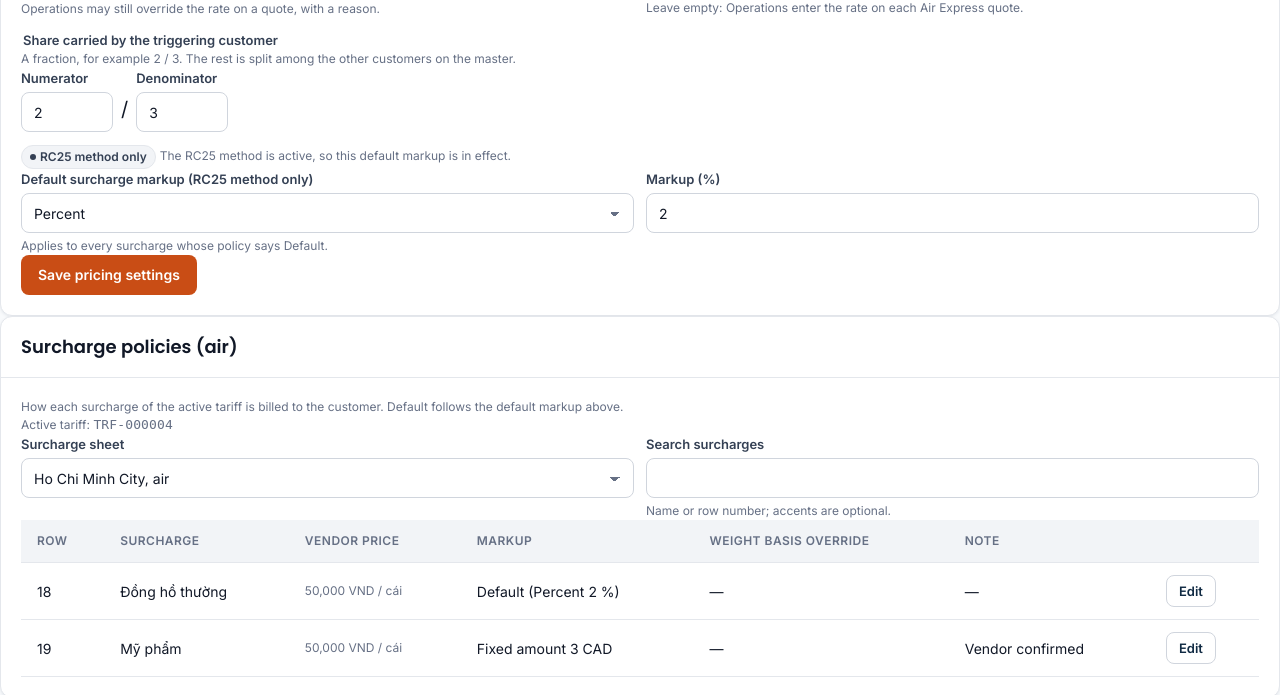
Test case: Settings › Pricing › edits a rule policy: kind, value, scope override and note
(page scrolled)
expect the element named "Surcharges and their policies" is shown: met, box [21,520,1259,677]
Click the button with aria-label "Edit policy: 18. Đồng hồ thường": [1191, 591] box [1166,575,1216,607]
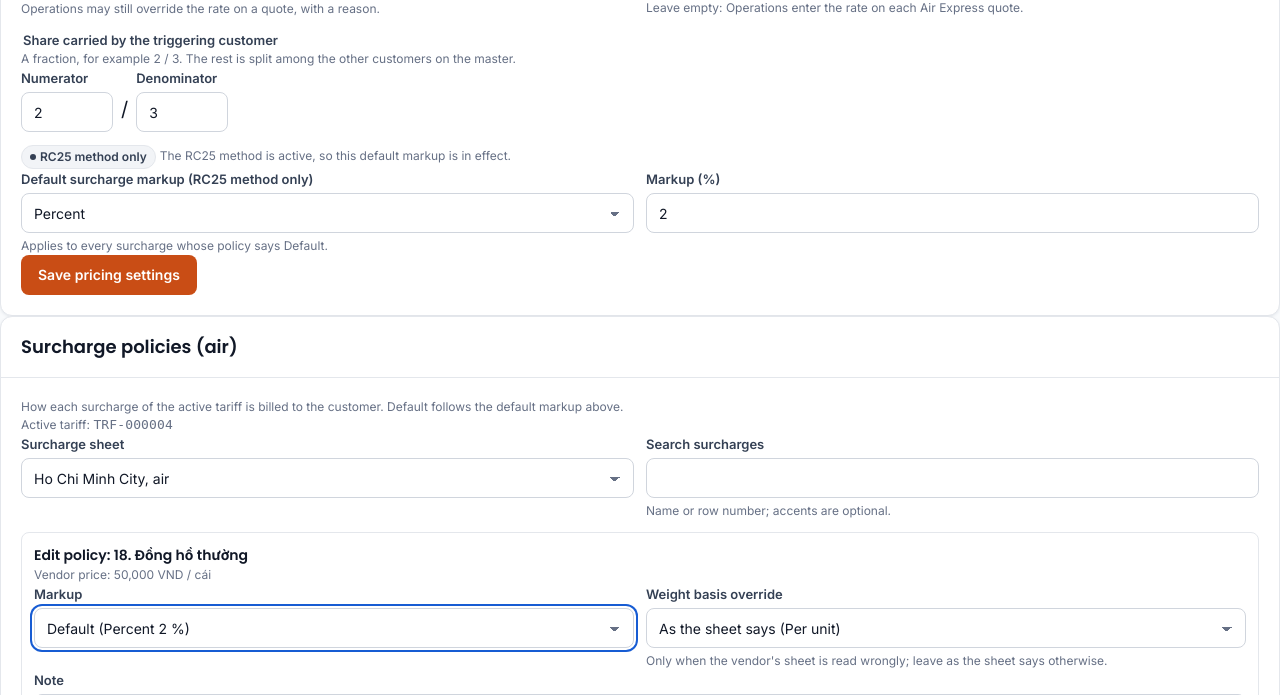
Select "Percent" in the dropdown labelled "Markup": [334, 628] box [34,608,634,648]
(page scrolled)
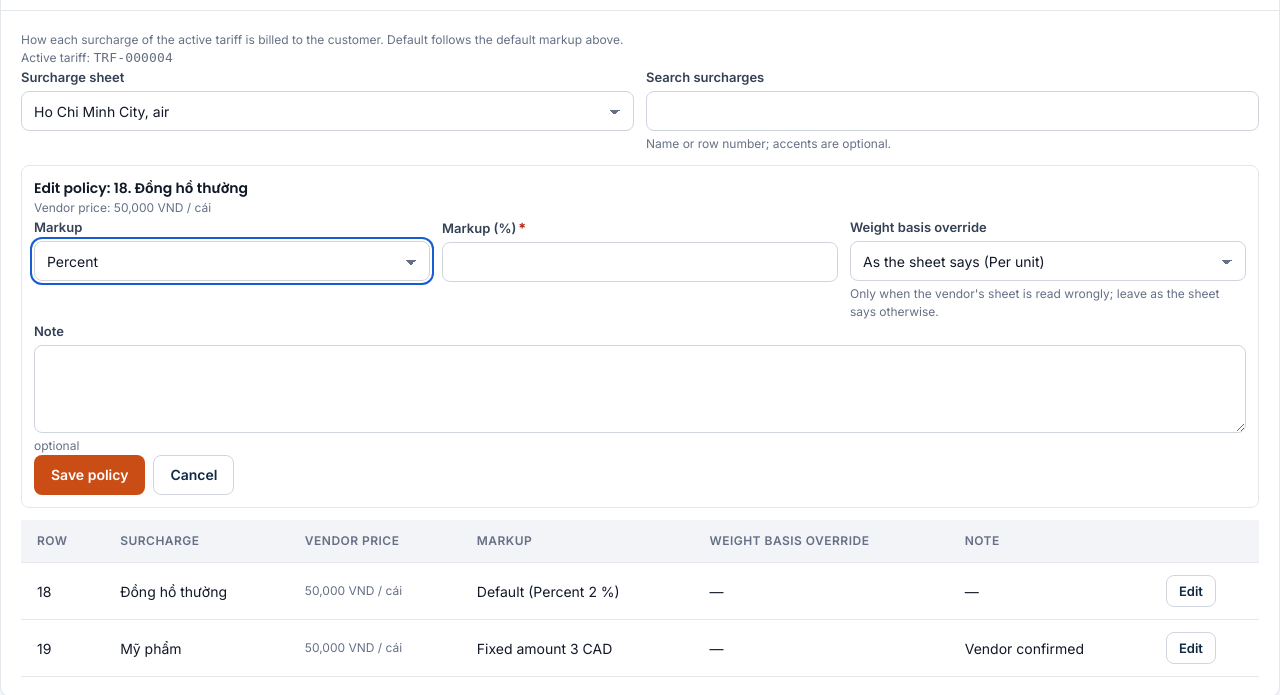
Click the button "Save policy": [90, 475] box [34,455,145,495]
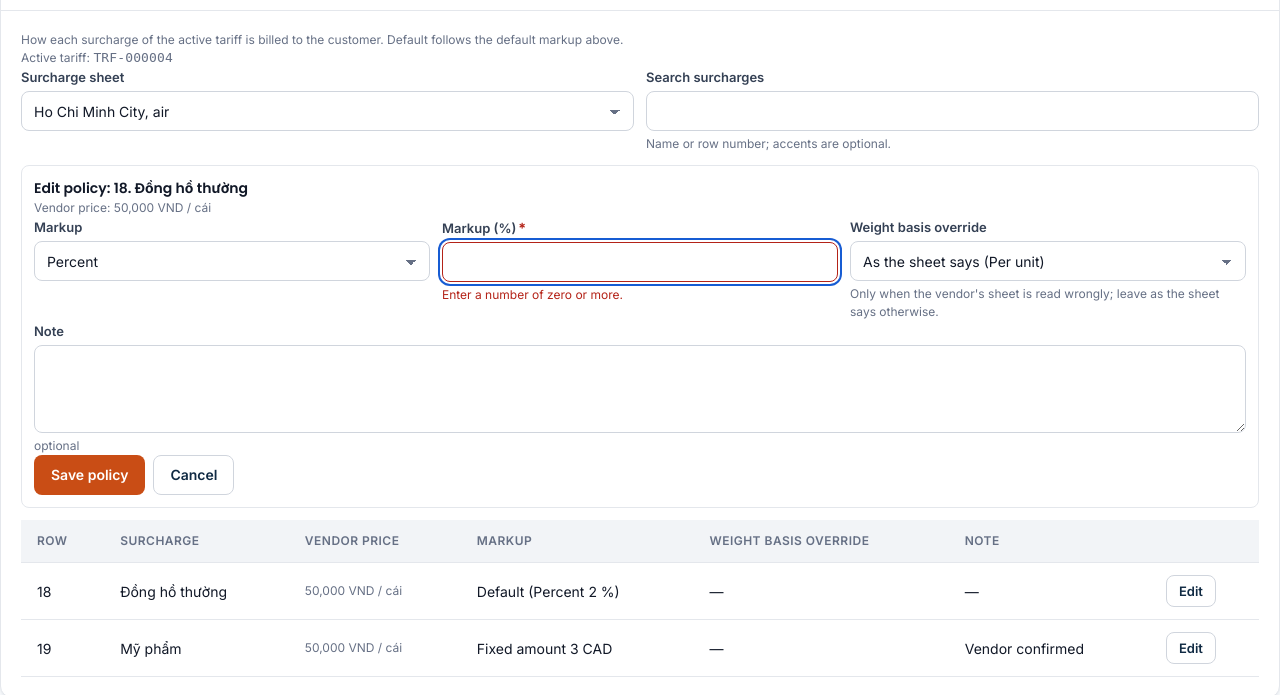
expect the text "Enter a number of zero or more." is shown: met, box [442,287,623,302]
In the field labelled "Markup (%)": [640, 262] box [442,242,838,282], type "5"
Select "The whole carton" in the dropdown labelled "Weight basis override": [1048, 261] box [850,241,1246,281]
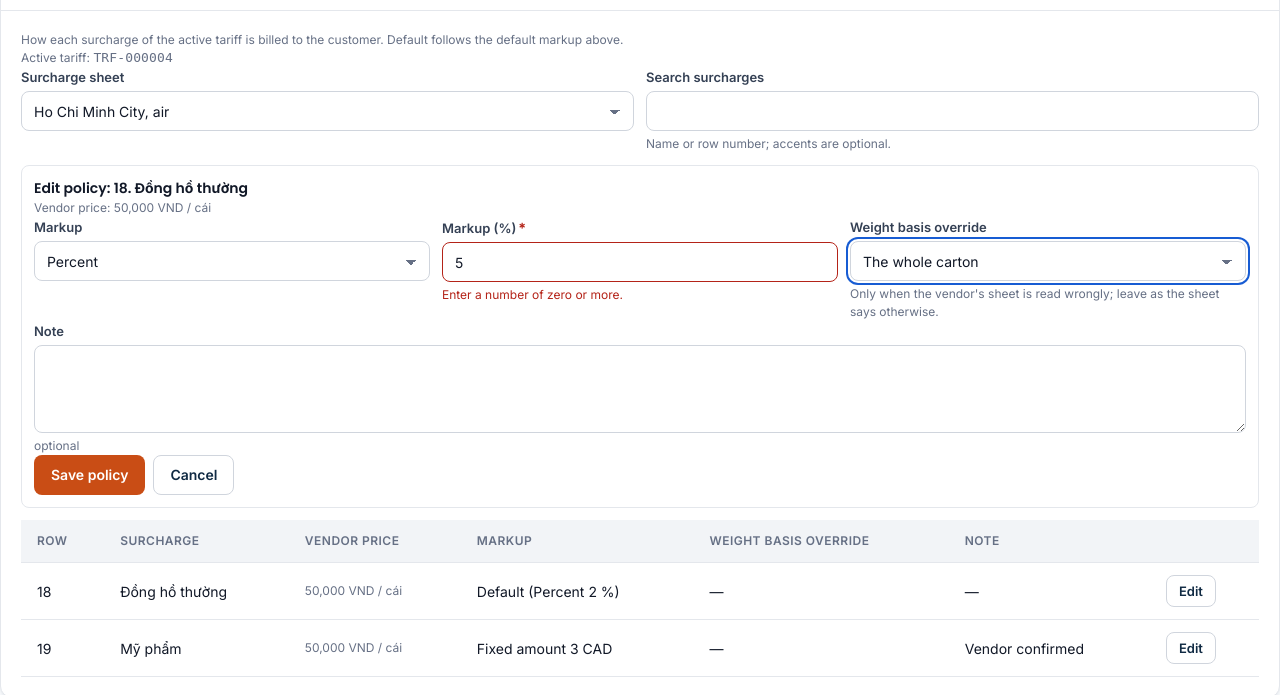
In the text box labelled "Note": [640, 389] box [34,345,1246,433], type "Owner asked"
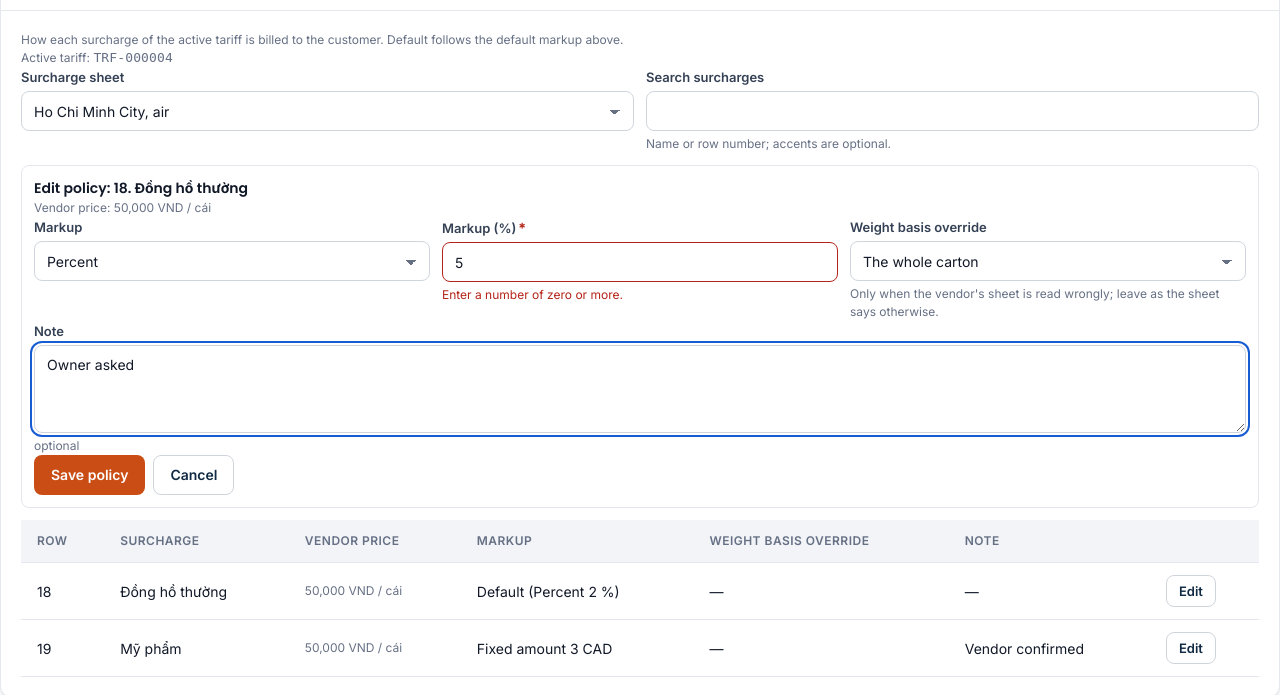
Click the button "Save policy": [90, 475] box [34,455,145,495]
(page scrolled)
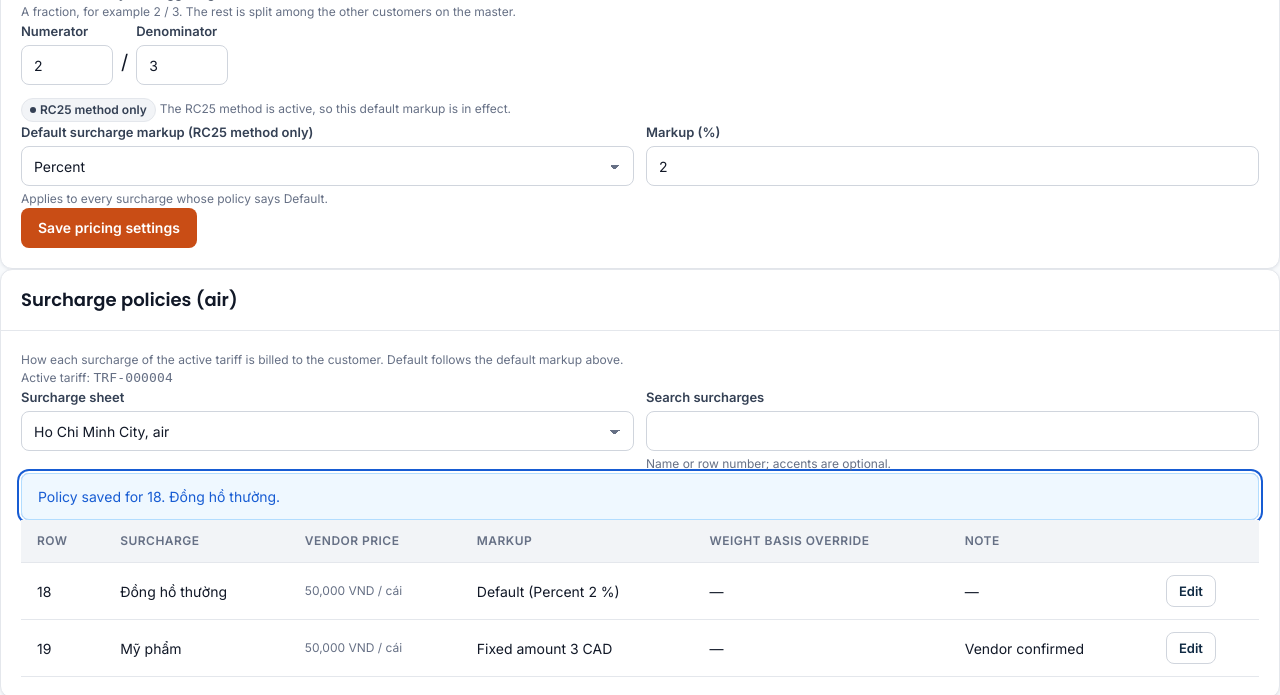
expect the text "Policy saved for 18. Đồng hồ thường." is shown: met, box [38,486,280,507]
